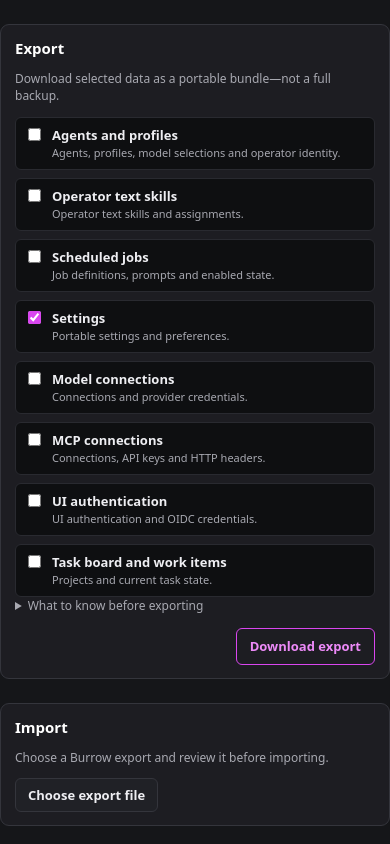
Test: renders the expanded catalog unchanged and exports only explicitly selected categories
The width and height of the screenshot is (390, 844).
Check: the checkbox labelled "Agents and profiles" is not checked, box [28,128,41,141]
Check: the checkbox labelled "Operator text skills Operator text skills and assignments." is not checked, box [28,189,41,202]
Click the checkbox labelled "Settings Portable settings and preferences." at (34, 317), box [28,311,41,324]
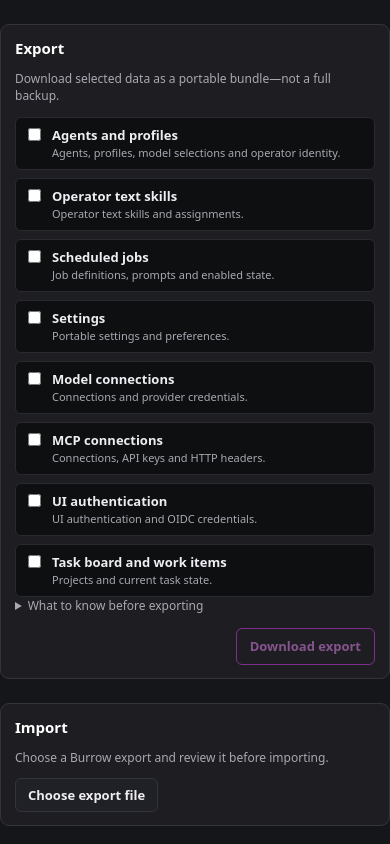
Click the checkbox labelled "Scheduled jobs Job definitions, prompts and enabled state." at (34, 256), box [28,250,41,263]
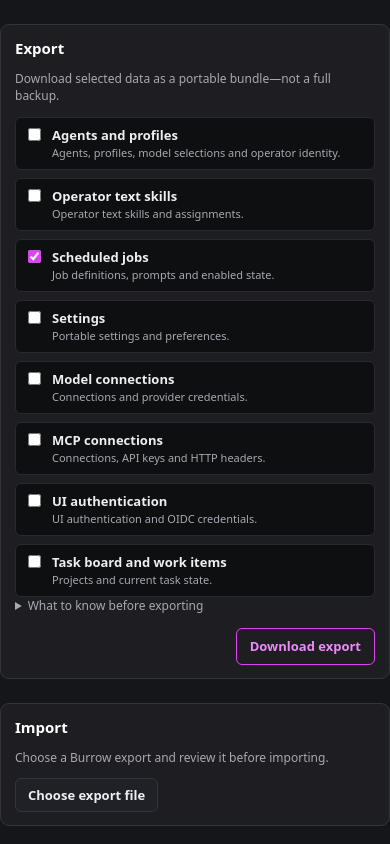
Click the checkbox labelled "Operator text skills Operator text skills and assignments." at (34, 195), box [28,189,41,202]
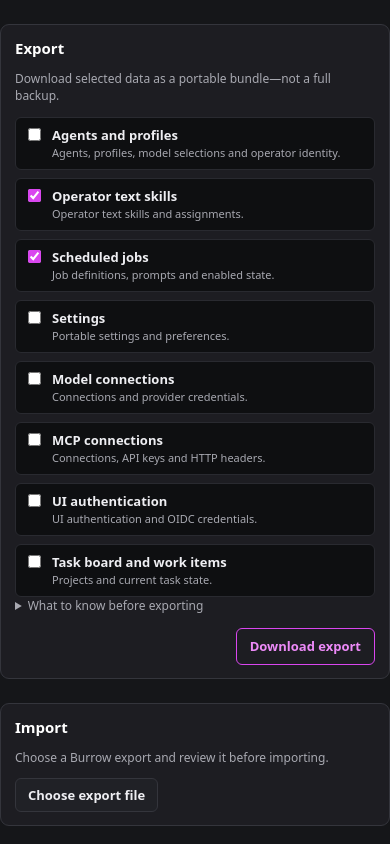
Click the button "Download export" at (305, 646), box [236,628,375,665]
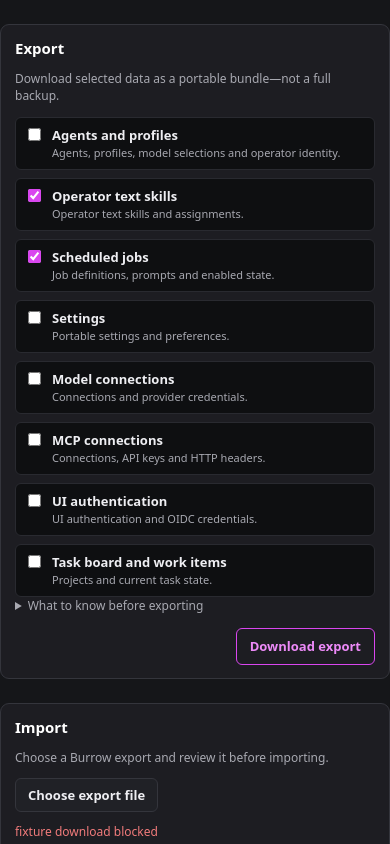
Check: the message reads "fixture download blocked", box [15,823,158,840]
